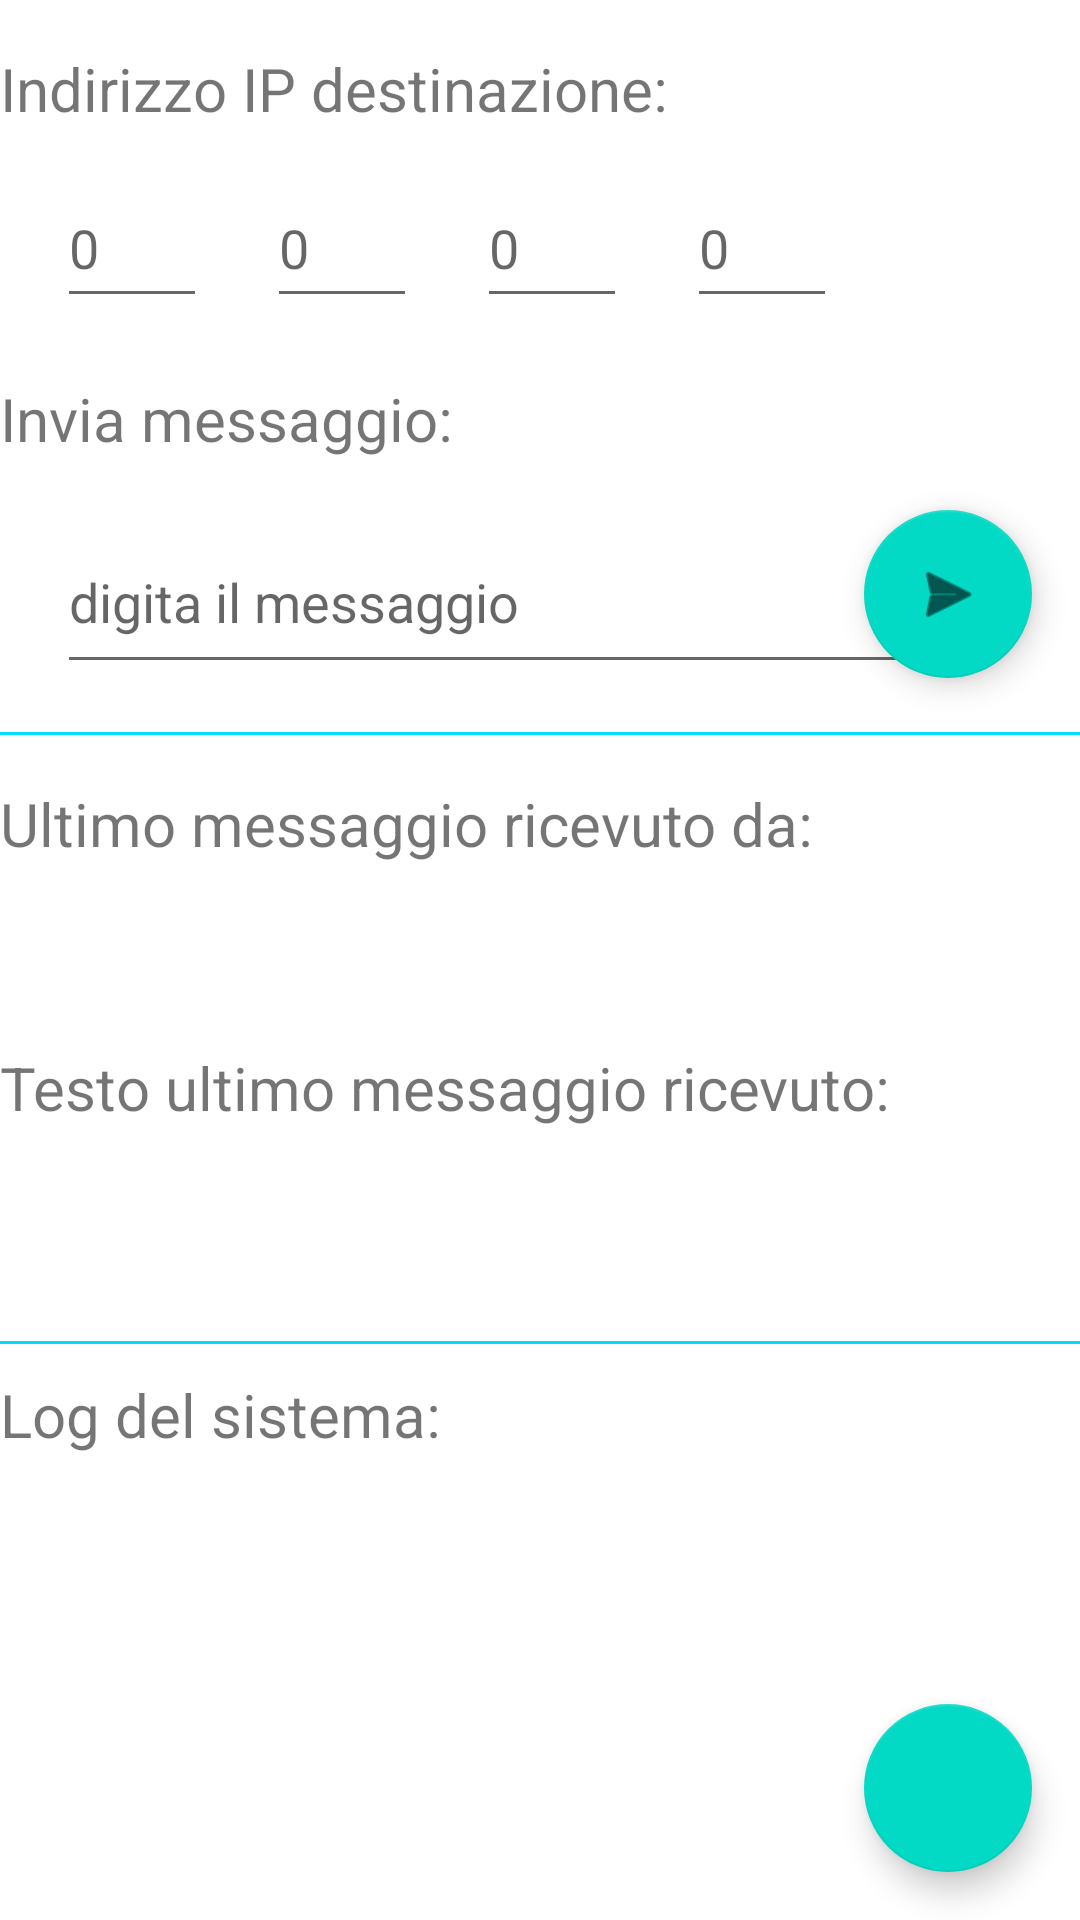

Locate icon controls on the screen. Image size 1080 x 1920, boxes as (x1, y1, x2, y2).
send: (864, 510, 1032, 678)
